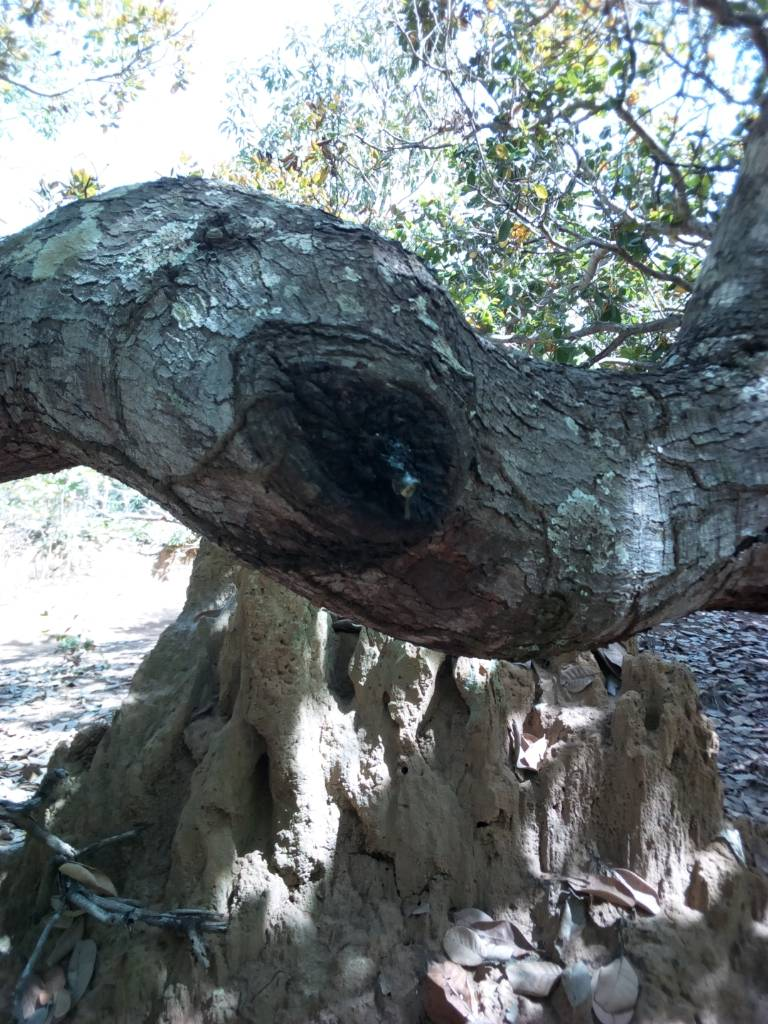Termites: (129, 636, 691, 1014)
